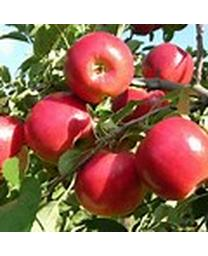apple: (137, 116, 207, 197), (63, 29, 134, 105), (24, 93, 95, 165), (76, 149, 149, 218)
